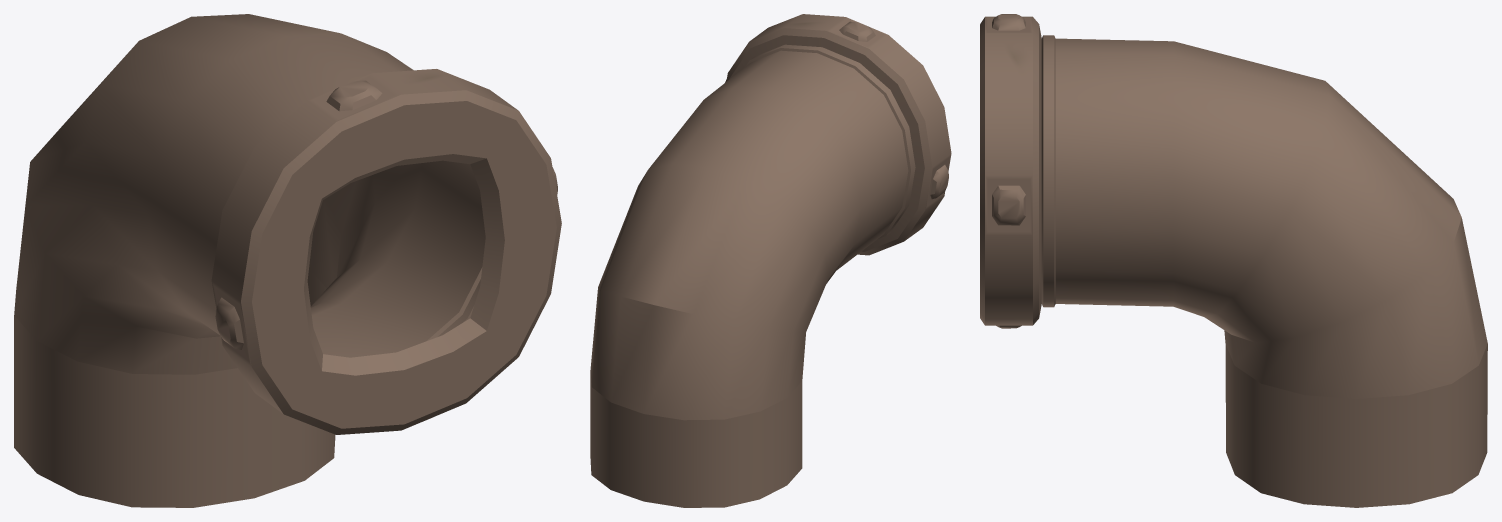
The model's file is pipe_turn.fbx.
The picture shows the model from 3 angles, left to right: view 1: azimuth 30°, elevation 25°; view 2: azimuth 150°, elevation 25°; view 3: azimuth 270°, elevation 25°; orthographic projection. The views are drawn at different scales.
Visible parts, largest first — view 1: pt_child; view 2: pt_child; view 3: pt_child.
Part boxes in pixels (x1,y1,x2,y2): pt_child: (14,14,561,507); pt_child: (590,14,951,507); pt_child: (980,14,1487,507).
Bounding box in the file's own units: 23.04 × 34.31 × 37.26.
